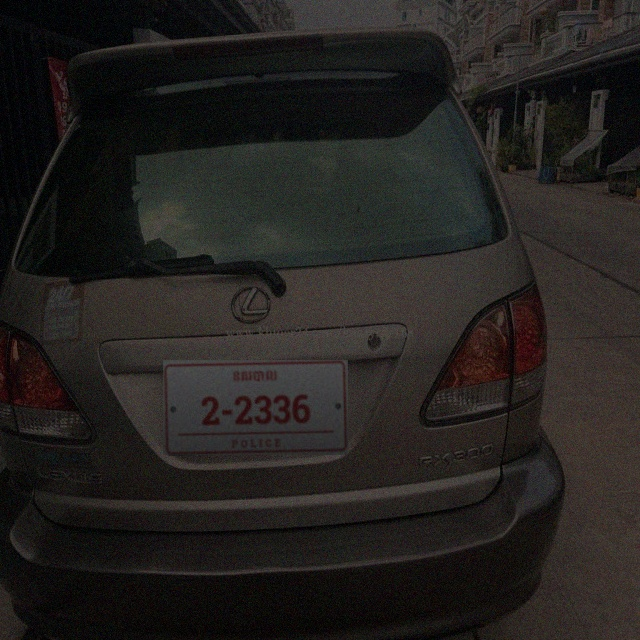Plate Number: (164, 360, 348, 455)
